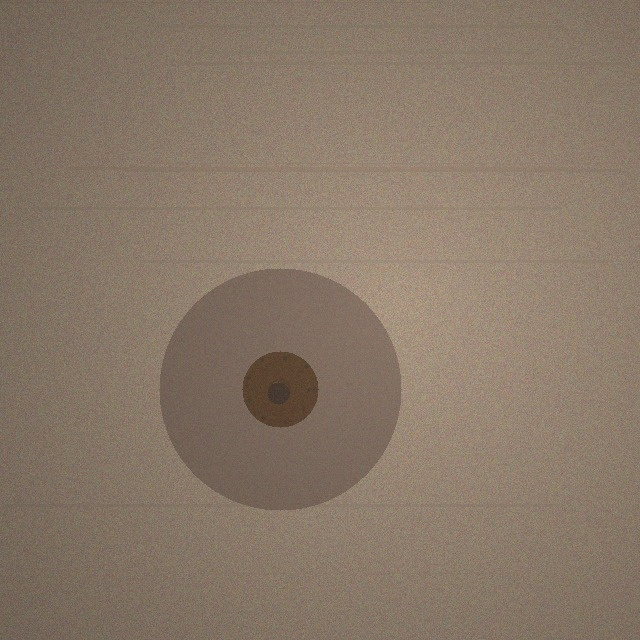cold_weld: (159, 268, 401, 510)
